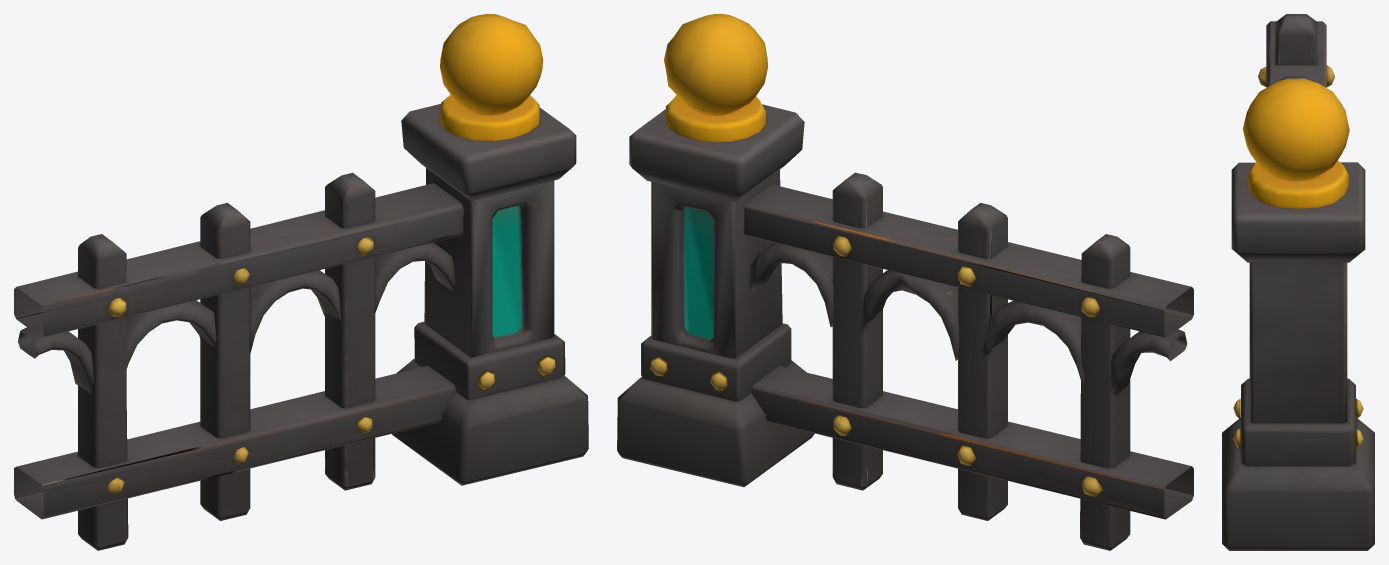
Rendered from fence_iron_open.glb.
3 renders of one model, left to right at view 1: azimuth 30°, elevation 25°; view 2: azimuth 150°, elevation 25°; view 3: azimuth 270°, elevation 25°, orthographic. The views are drawn at different scales.
Parts seen in each view (by area): view 1: fence_iron; view 2: fence_iron; view 3: fence_iron.
Boxes of the visible parts, x1=… form: fence_iron: x1=14, y1=14, x2=588, y2=550; fence_iron: x1=617, y1=14, x2=1193, y2=550; fence_iron: x1=1222, y1=14, x2=1374, y2=550.
Bounding box in the file's own units: 0.5426 × 0.4214 × 0.1333.
1 material, 1 textured.
